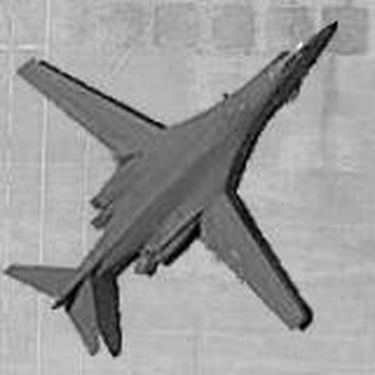airplane: (4, 12, 351, 359)
